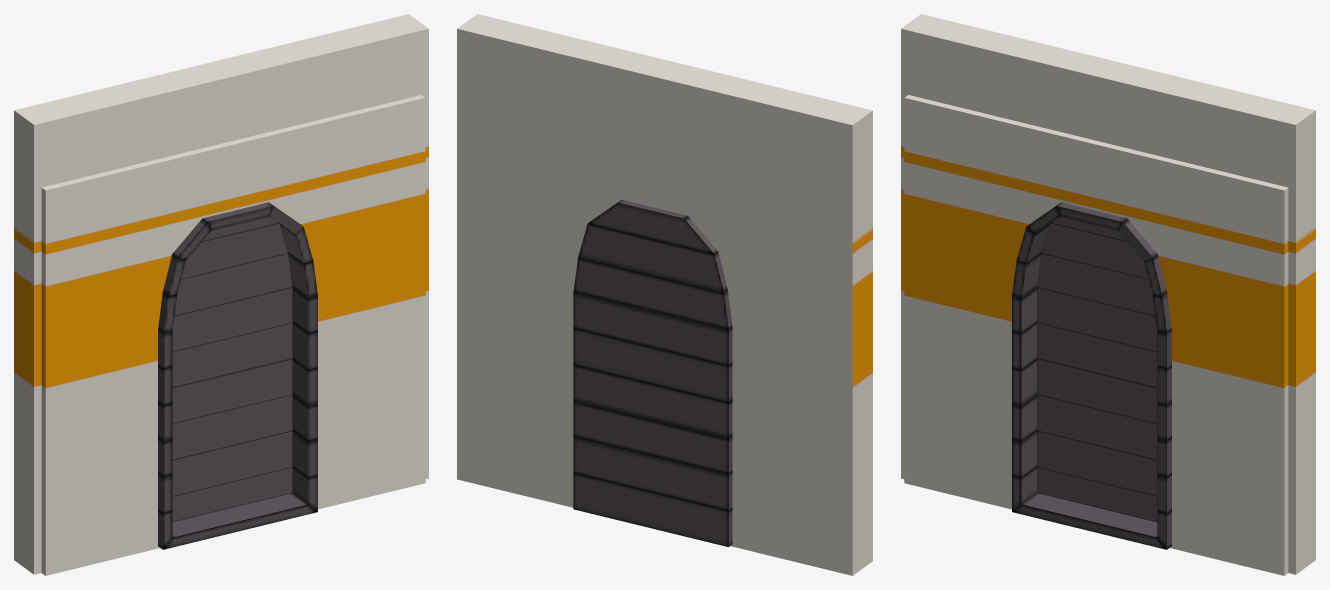
The model's file is walldoor.fbx.
3 views of the same model, side by side, from view 1: azimuth 30°, elevation 25°; view 2: azimuth 150°, elevation 25°; view 3: azimuth 330°, elevation 25° (orthographic).
Visible parts, largest first — view 1: WallDoor; view 2: WallDoor; view 3: WallDoor.
Boxes of the visible parts, box(x1,y1,x2,y2) form: WallDoor: box(14, 14, 428, 575); WallDoor: box(457, 14, 872, 575); WallDoor: box(901, 14, 1315, 575).
Bounding box in the file's own units: 426 × 464 × 61.59.
